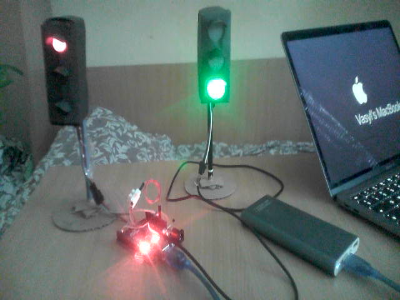trafficlight_green: (201, 11, 230, 102)
trafficlight_red: (40, 23, 82, 123)
